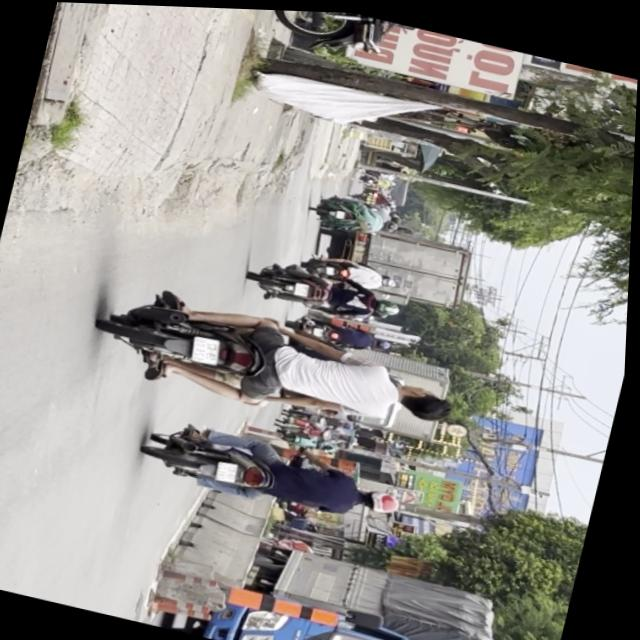helmet: (363, 484, 406, 514)
licenseplate: (89, 278, 468, 449), (139, 413, 415, 533)
motorcyclist: (394, 379, 456, 422)
nohelmet: (192, 333, 226, 365), (219, 459, 243, 483)
